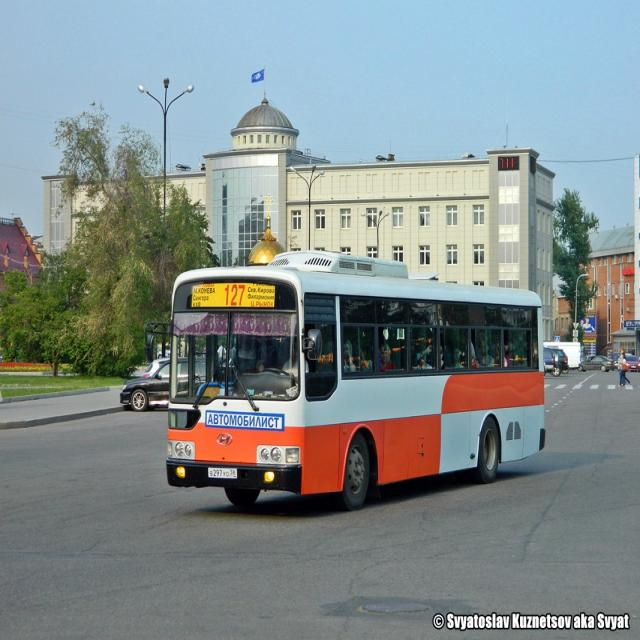number-of-bus: (222, 285, 249, 310)
